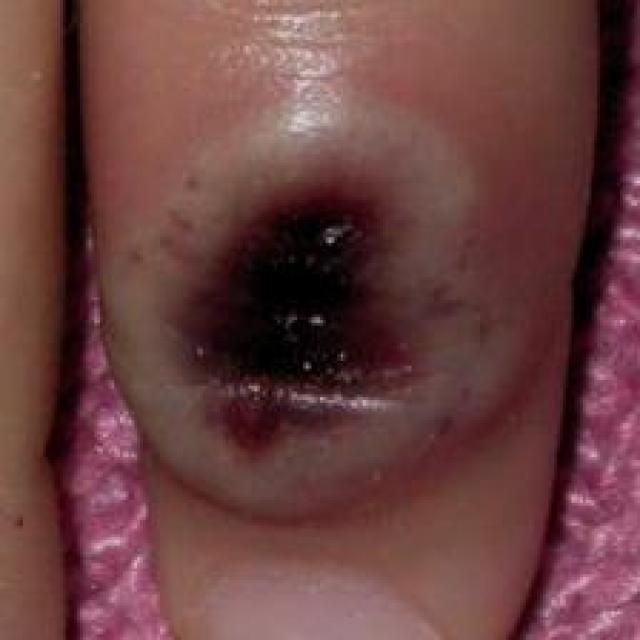monkeypox: (76, 14, 622, 635)
